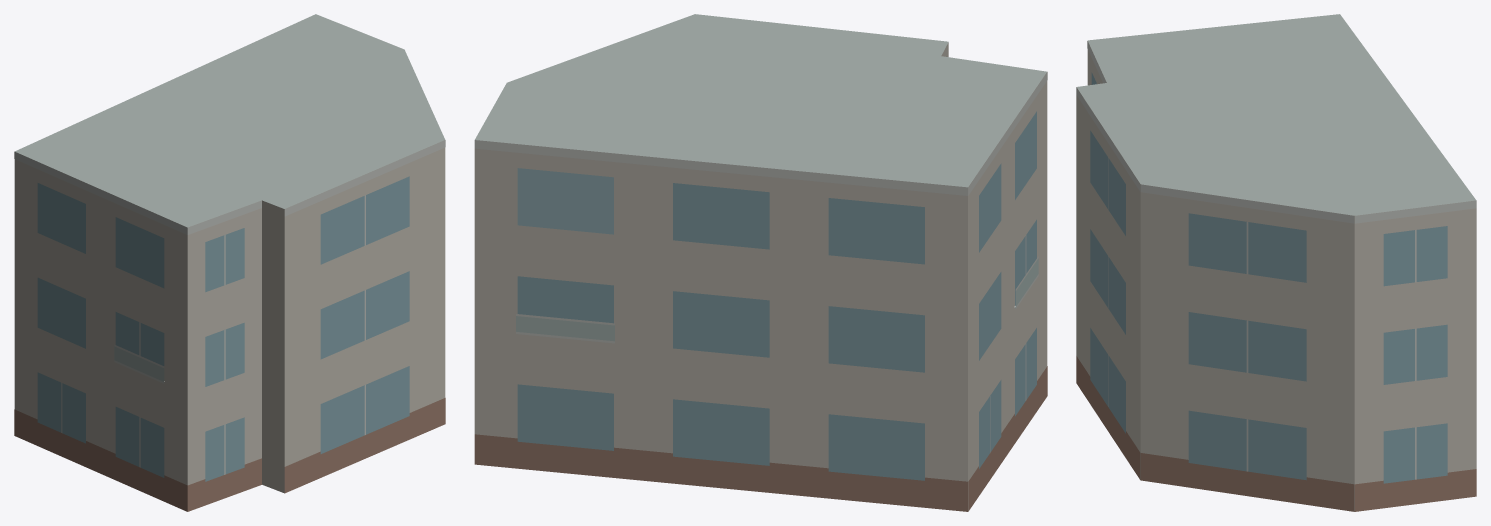
File: survey-upis-32773175.glb
3 renders of one model, left to right at view 1: azimuth 30°, elevation 25°; view 2: azimuth 150°, elevation 25°; view 3: azimuth 270°, elevation 25°, orthographic. The views are drawn at different scales.
Parts seen in each view (by area): view 1: survey-upis-32773175.tmp; view 2: survey-upis-32773175.tmp; view 3: survey-upis-32773175.tmp.
Boxes of the visible parts, bbox=[...] form: survey-upis-32773175.tmp: bbox=[14, 14, 445, 511]; survey-upis-32773175.tmp: bbox=[474, 14, 1047, 511]; survey-upis-32773175.tmp: bbox=[1076, 14, 1476, 511].
Size of the model in its own units: 13.38 by 9.15 by 11.22.
